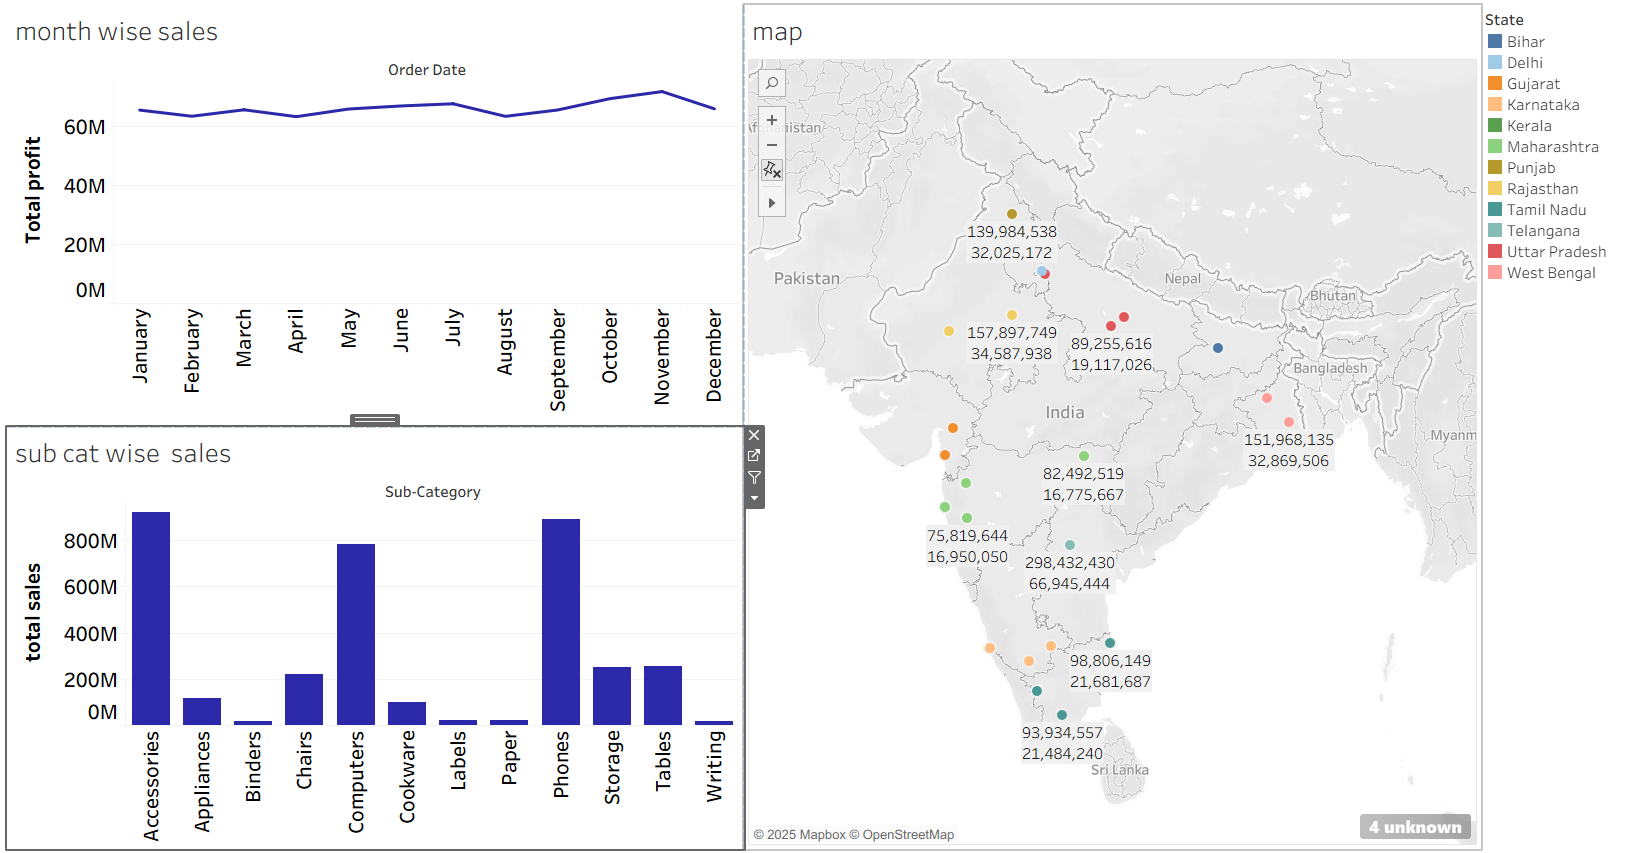

Layout of this report page (visuals, bound fields, positions):
{"tool":"tableau","page":{"name":"Dashboard 2","canvas":[1000,1000],"units":"permille","ordinal":0},"visuals":[{"type":"worksheet","title":"month wise sales","mark":"Automatic","rows":["Calculation_1266355982566457351"],"cols":["Order Date"],"box":[4.9,9.3,446.7,490.7]},{"type":"worksheet","title":"map","mark":"Automatic","box":[451.5,9.3,446.7,981.4]},{"type":"legend","title":"map","param":"[federated.0b6uyzn1tn4fho1comy171s3y62z].[none:State:nk]","box":[898.2,9.3,97,327.9]},{"type":"worksheet","title":"sub cat wise  sales","mark":"Automatic","rows":["Calculation_1266355982566121477"],"cols":["Sub-Category"],"box":[4.9,500,446.7,490.7]}]}

Visuals, with their boxes on the dashboard's canvas, which has no fixed pixel size, in thousandths of its width and height (x1, y1, x2, y2). These are canvas units, not pixel positions in the 1646x853 screenshot, which may show the page scaled, cropped or inside an application window:
"month wise sales" worksheet: (5,9,452,500)
"map" worksheet: (452,9,898,991)
"map" legend: (898,9,995,337)
"sub cat wise  sales" worksheet: (5,500,452,991)
